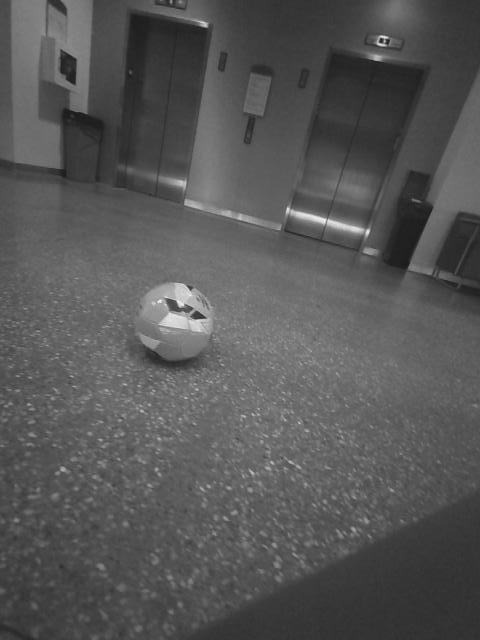ball: (130, 277, 220, 368)
